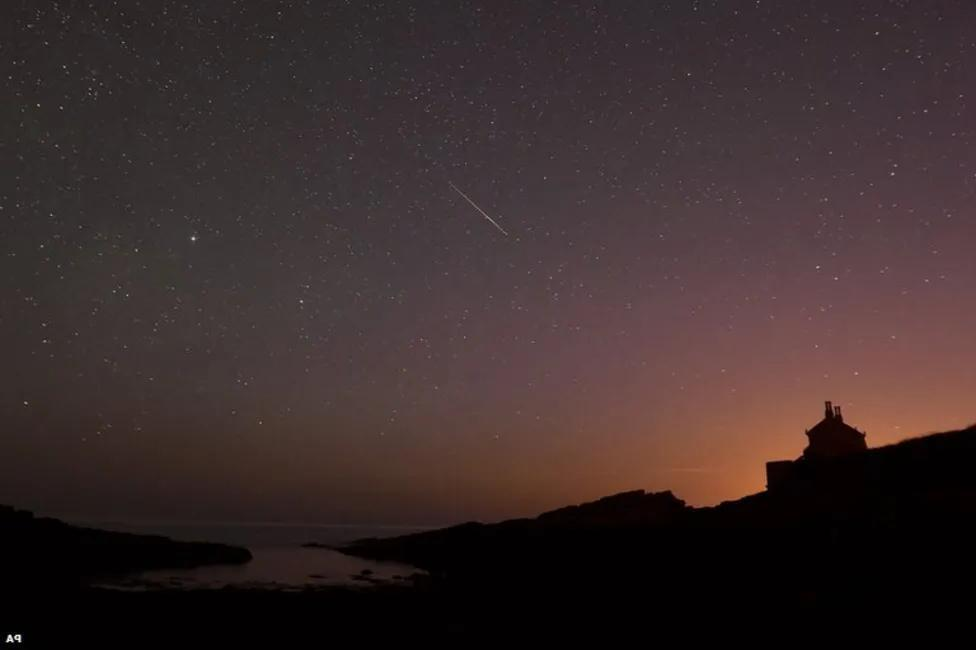meteorite: (443, 180, 519, 242)
